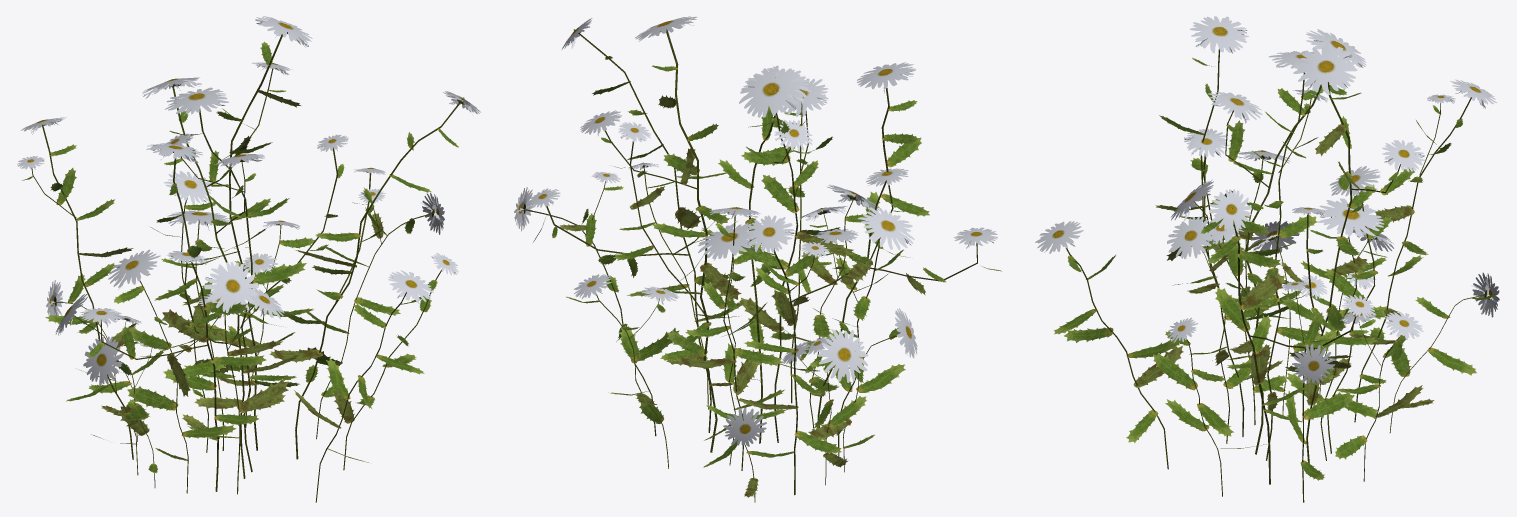
File: daisy_patch.glb
The picture shows the model from 3 angles, left to right: view 1: azimuth 30°, elevation 25°; view 2: azimuth 150°, elevation 25°; view 3: azimuth 270°, elevation 25°; orthographic projection. The views are drawn at different scales.
Parts seen in each view (by area): view 1: daisy_patch; view 2: daisy_patch; view 3: daisy_patch.
Boxes of the visible parts, x1,y1,x2,y2 form: daisy_patch: [17, 16, 480, 502]; daisy_patch: [514, 16, 1001, 502]; daisy_patch: [1035, 16, 1499, 502].
Size of the model in its own units: 2.45 by 2.4 by 2.34.
1 material, 1 textured.
